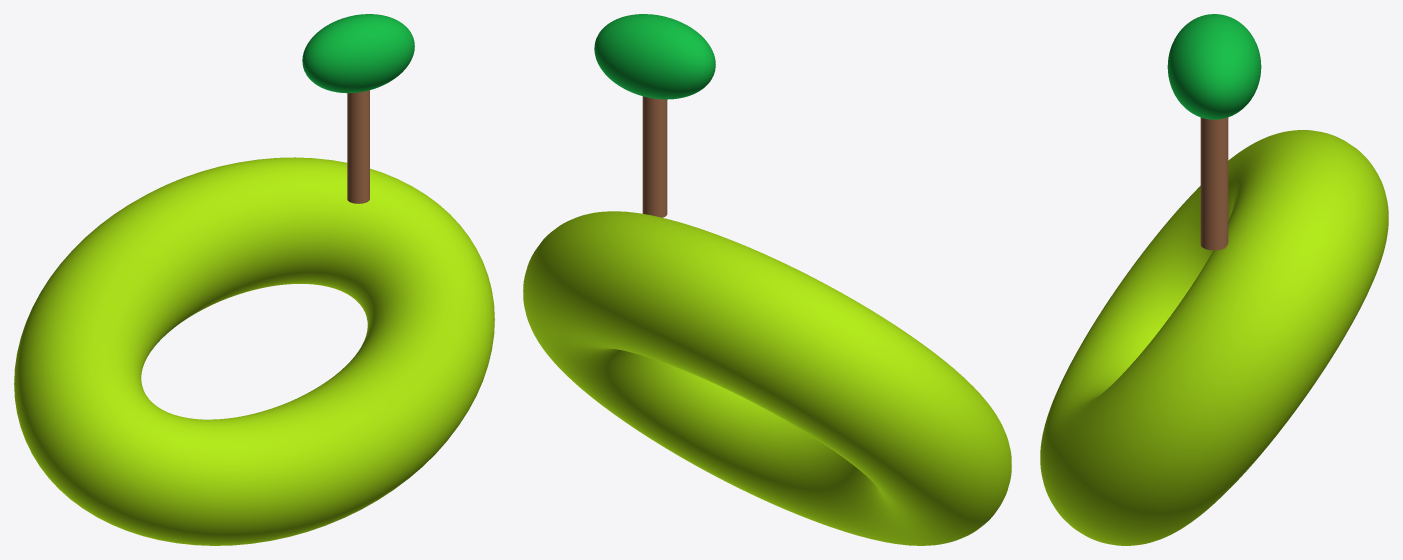
Rendered from donut.fbx.
The picture shows the model from 3 angles, left to right: view 1: azimuth 30°, elevation 25°; view 2: azimuth 150°, elevation 25°; view 3: azimuth 270°, elevation 25°; orthographic projection. The views are drawn at different scales.
Parts seen in each view (by area): view 1: root (×3); view 2: root (×3); view 3: root (×3).
Part boxes in pixels (x1,y1,x2,y2): root (×3): (14,14,494,545); root (×3): (523,14,1011,545); root (×3): (1040,14,1388,545).
Bounding box in the file's own units: 0.7919 × 0.7842 × 0.4433.
3 materials, 3 textured.
